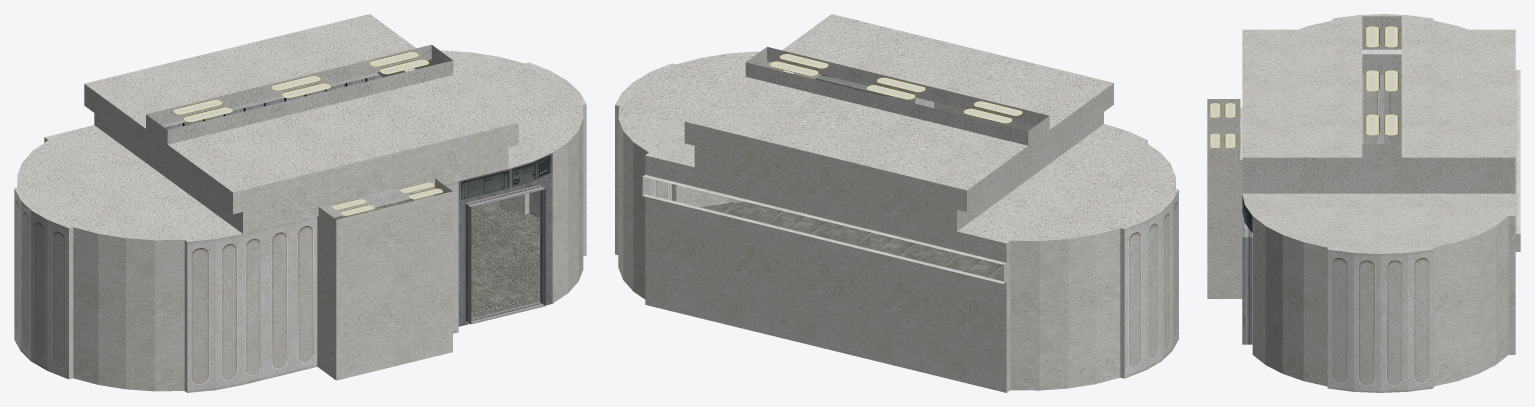
The model's file is ply_all_house_sm_s02_fp1_r3_mainroom_mesh.fbx.
3 renders of one model, left to right at view 1: azimuth 30°, elevation 25°; view 2: azimuth 150°, elevation 25°; view 3: azimuth 270°, elevation 25°, orthographic. The views are drawn at different scales.
Visible parts, largest first — view 1: mesh_node; view 2: mesh_node; view 3: mesh_node.
Part boxes in pixels (<box>): mesh_node: <box>14,14,586,392</box>; mesh_node: <box>615,14,1178,392</box>; mesh_node: <box>1207,14,1520,392</box>.
Size of the model in its own units: 14.36 by 5.38 by 7.91.
